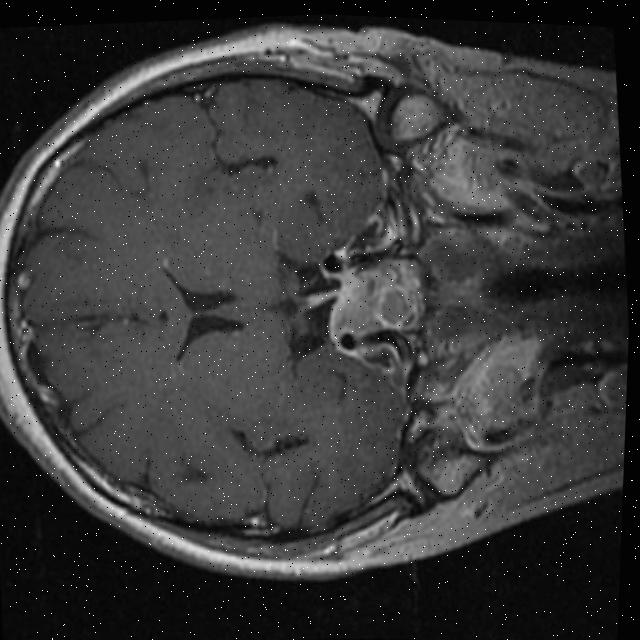Pituitary: (318, 254, 428, 344)
